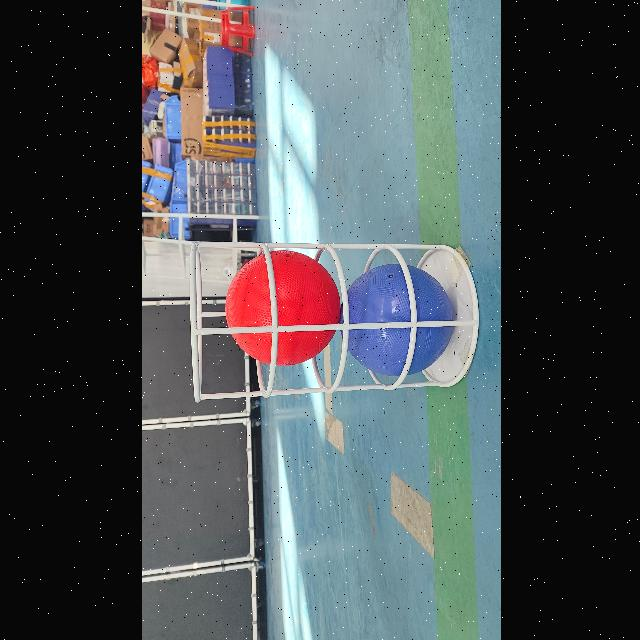B: (338, 264, 452, 376)
R: (223, 250, 339, 366)
S: (187, 230, 486, 410)
